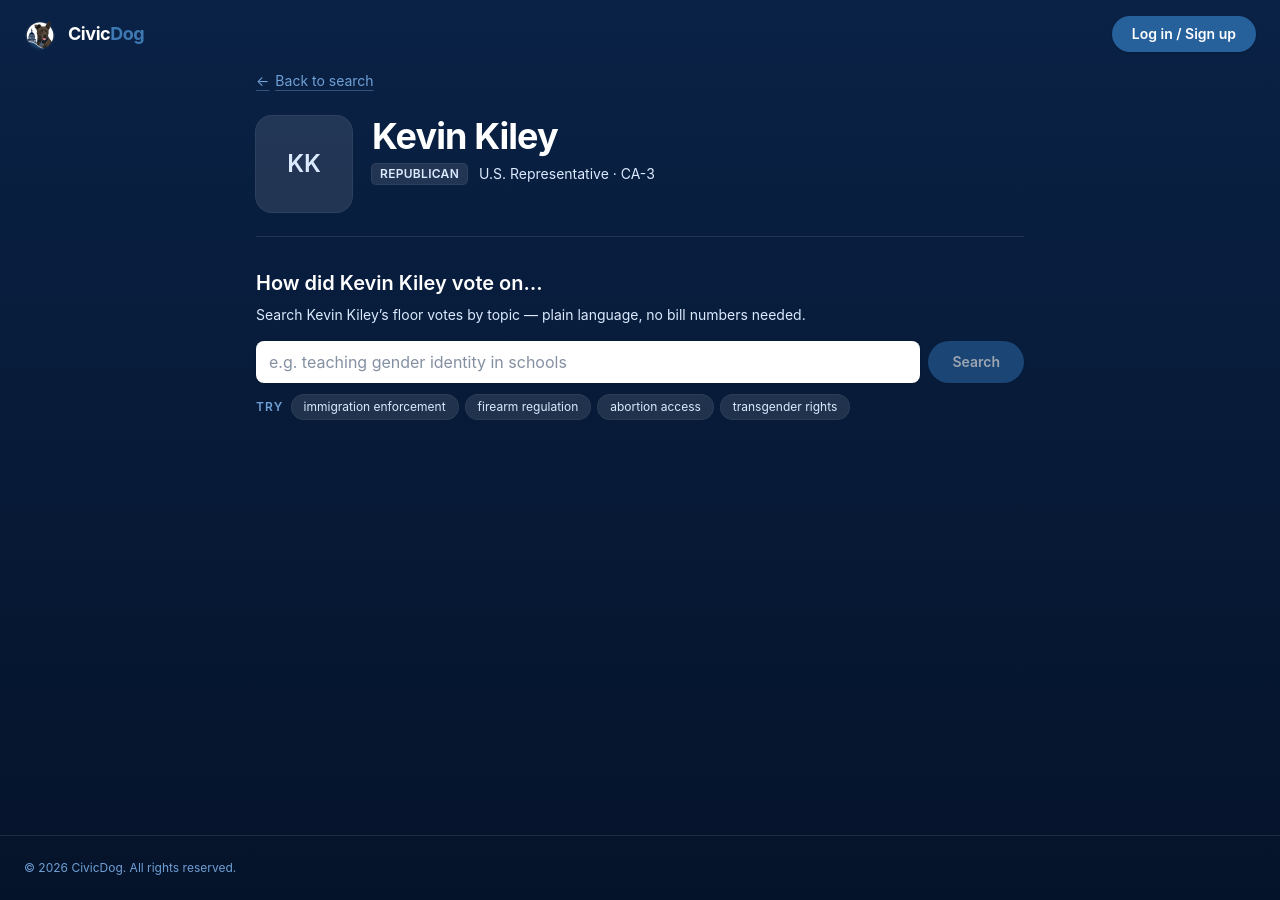
App › mounts the search form once the user navigates to it from a cold member deep link
Expected: the heading "Kevin Kiley" is shown, [372,114,558,158]
Click the link "← Back to search" at x=315, y=81, box [256,71,374,91]
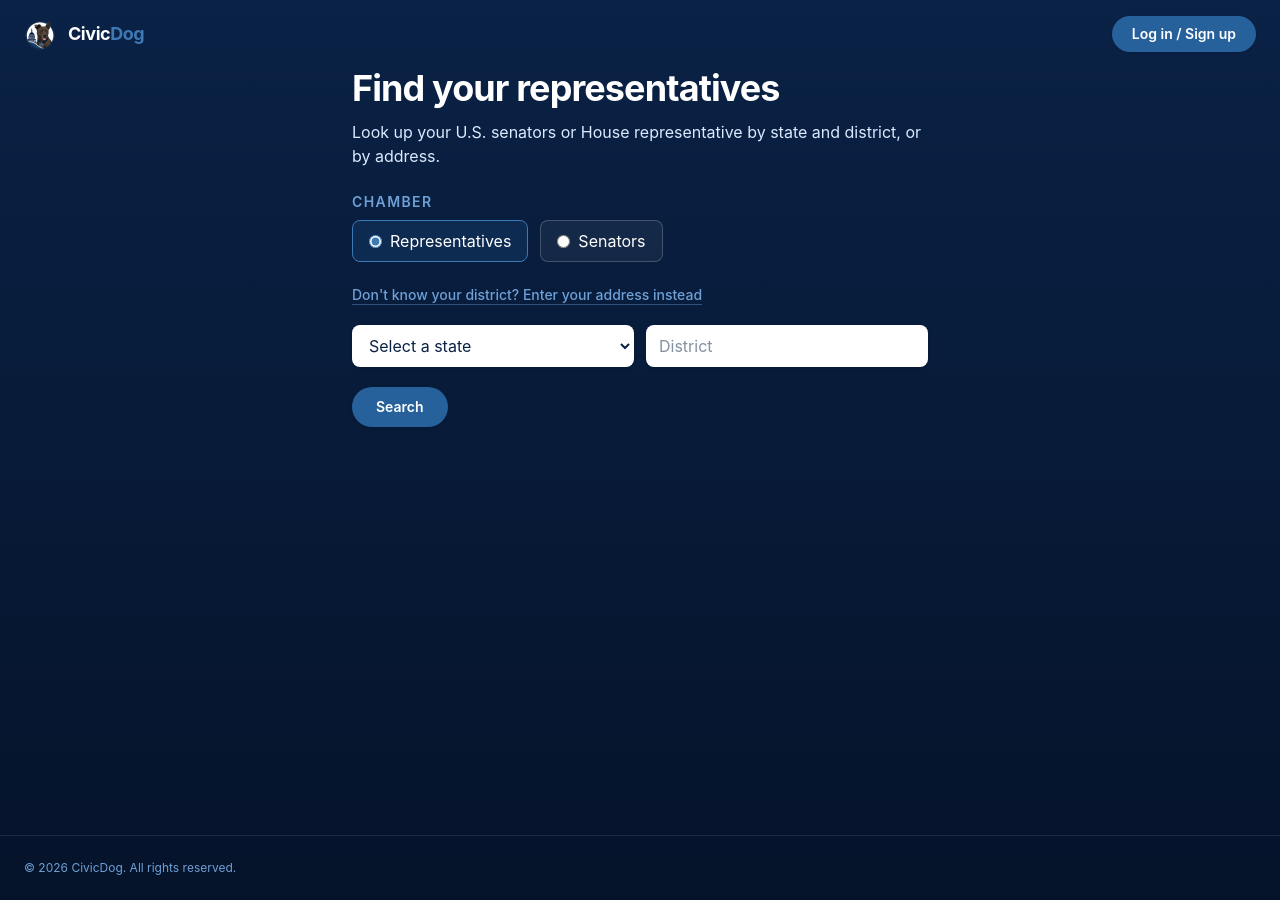
Expected: the heading "Find your representatives" is shown, [352,66,780,110]
